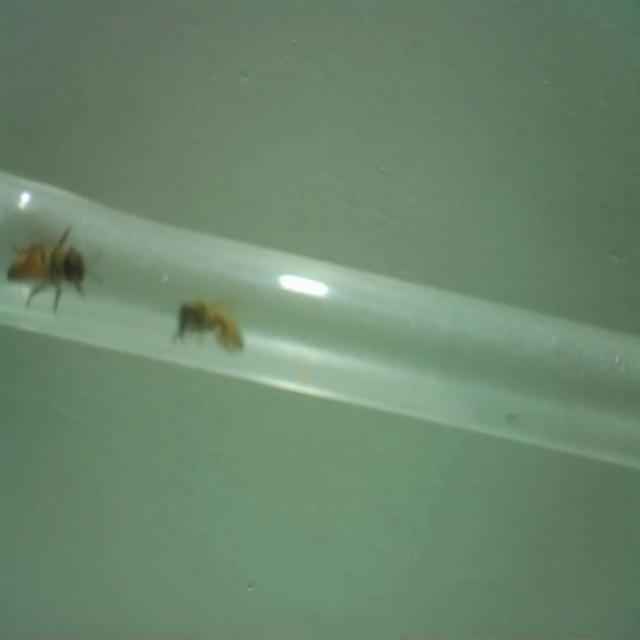Honeybee-Detection: (6, 225, 103, 315), (172, 294, 245, 354)
